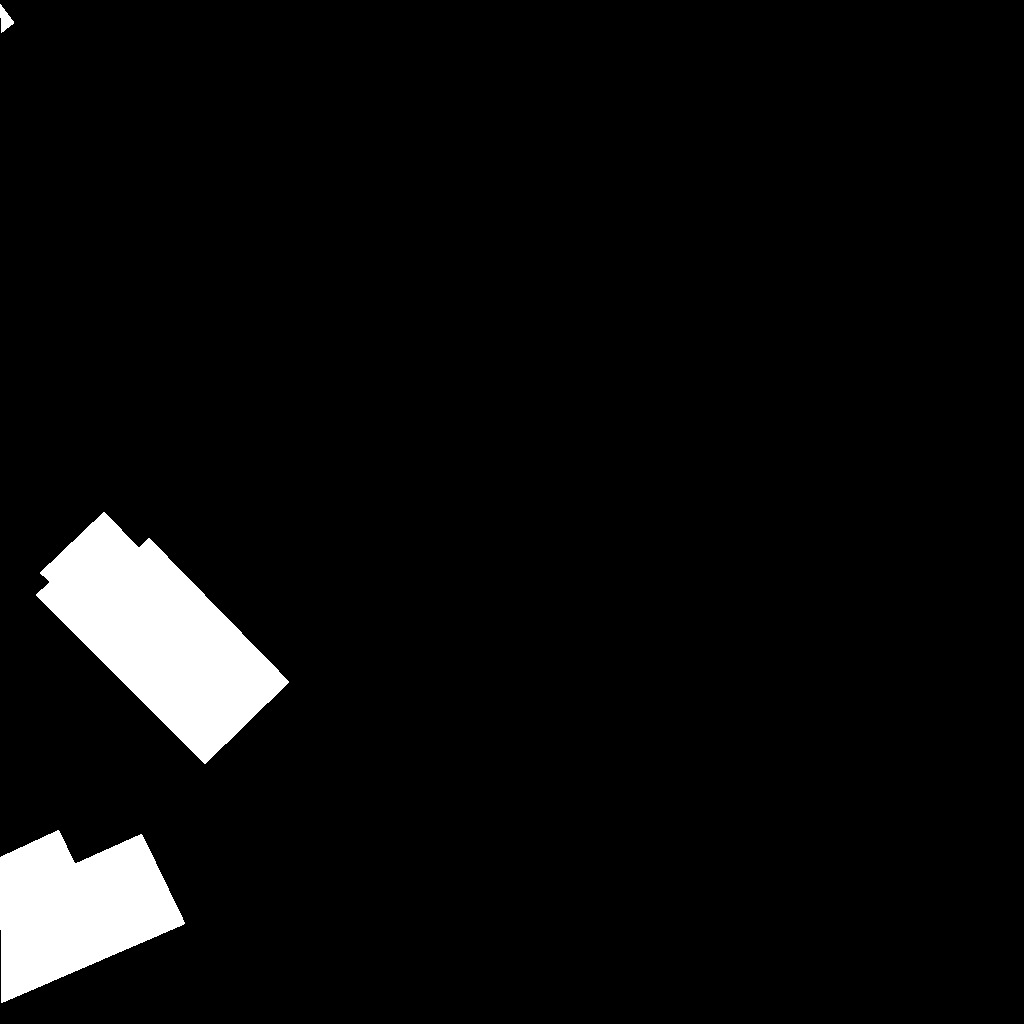building: (36, 512, 290, 765), (0, 830, 186, 1004), (0, 4, 15, 34)
